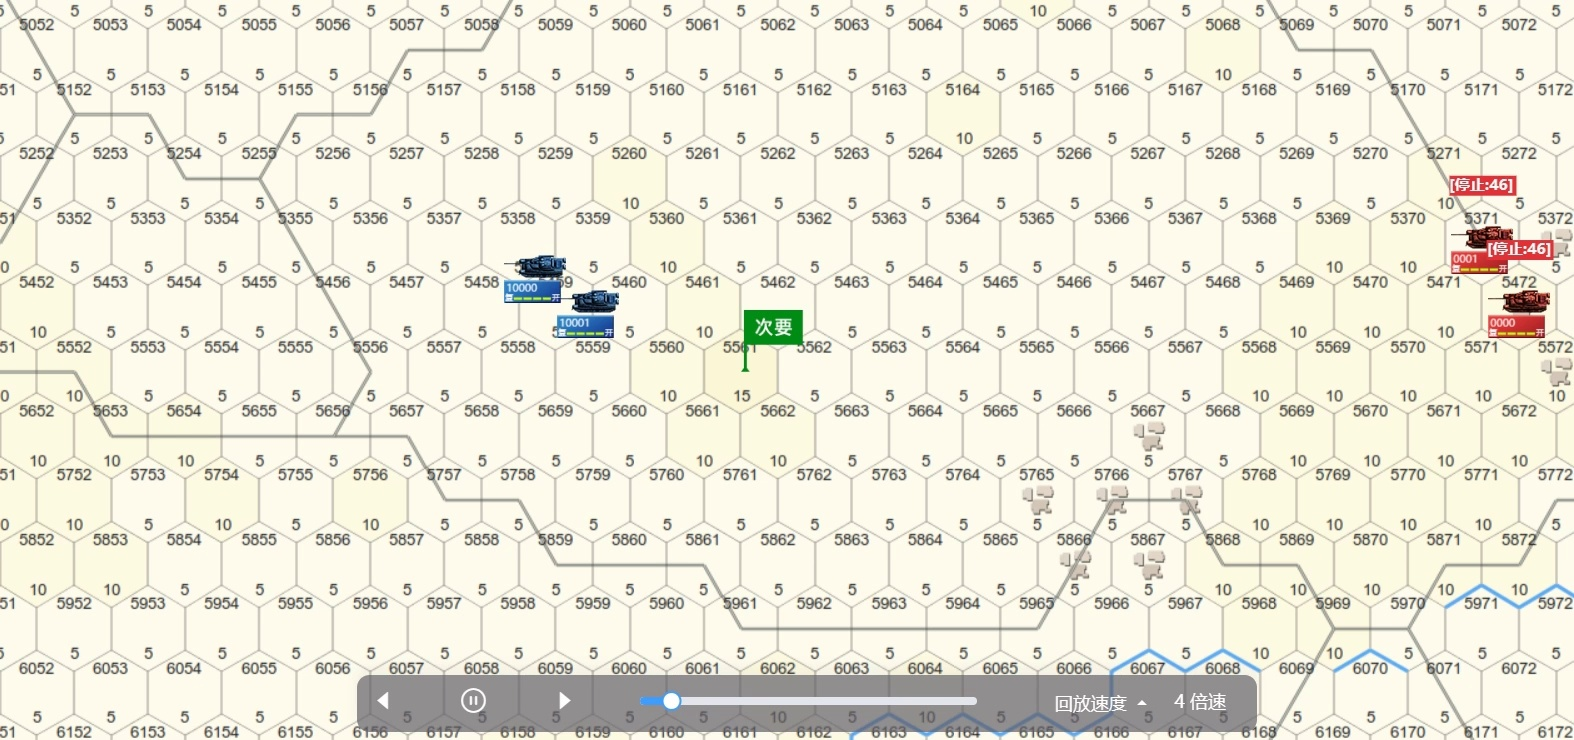blue_tank: (553, 288, 629, 354), (508, 249, 571, 304)
red_tank: (1484, 286, 1556, 351), (1449, 225, 1521, 280)
